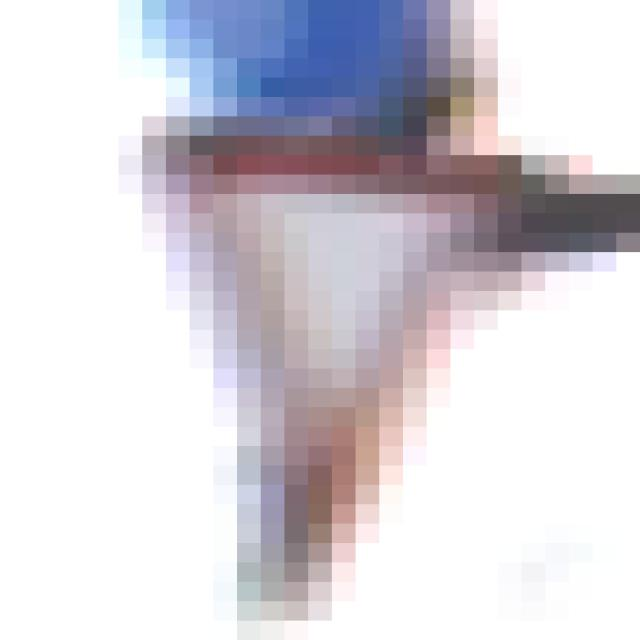Give Way: (120, 98, 523, 544)
